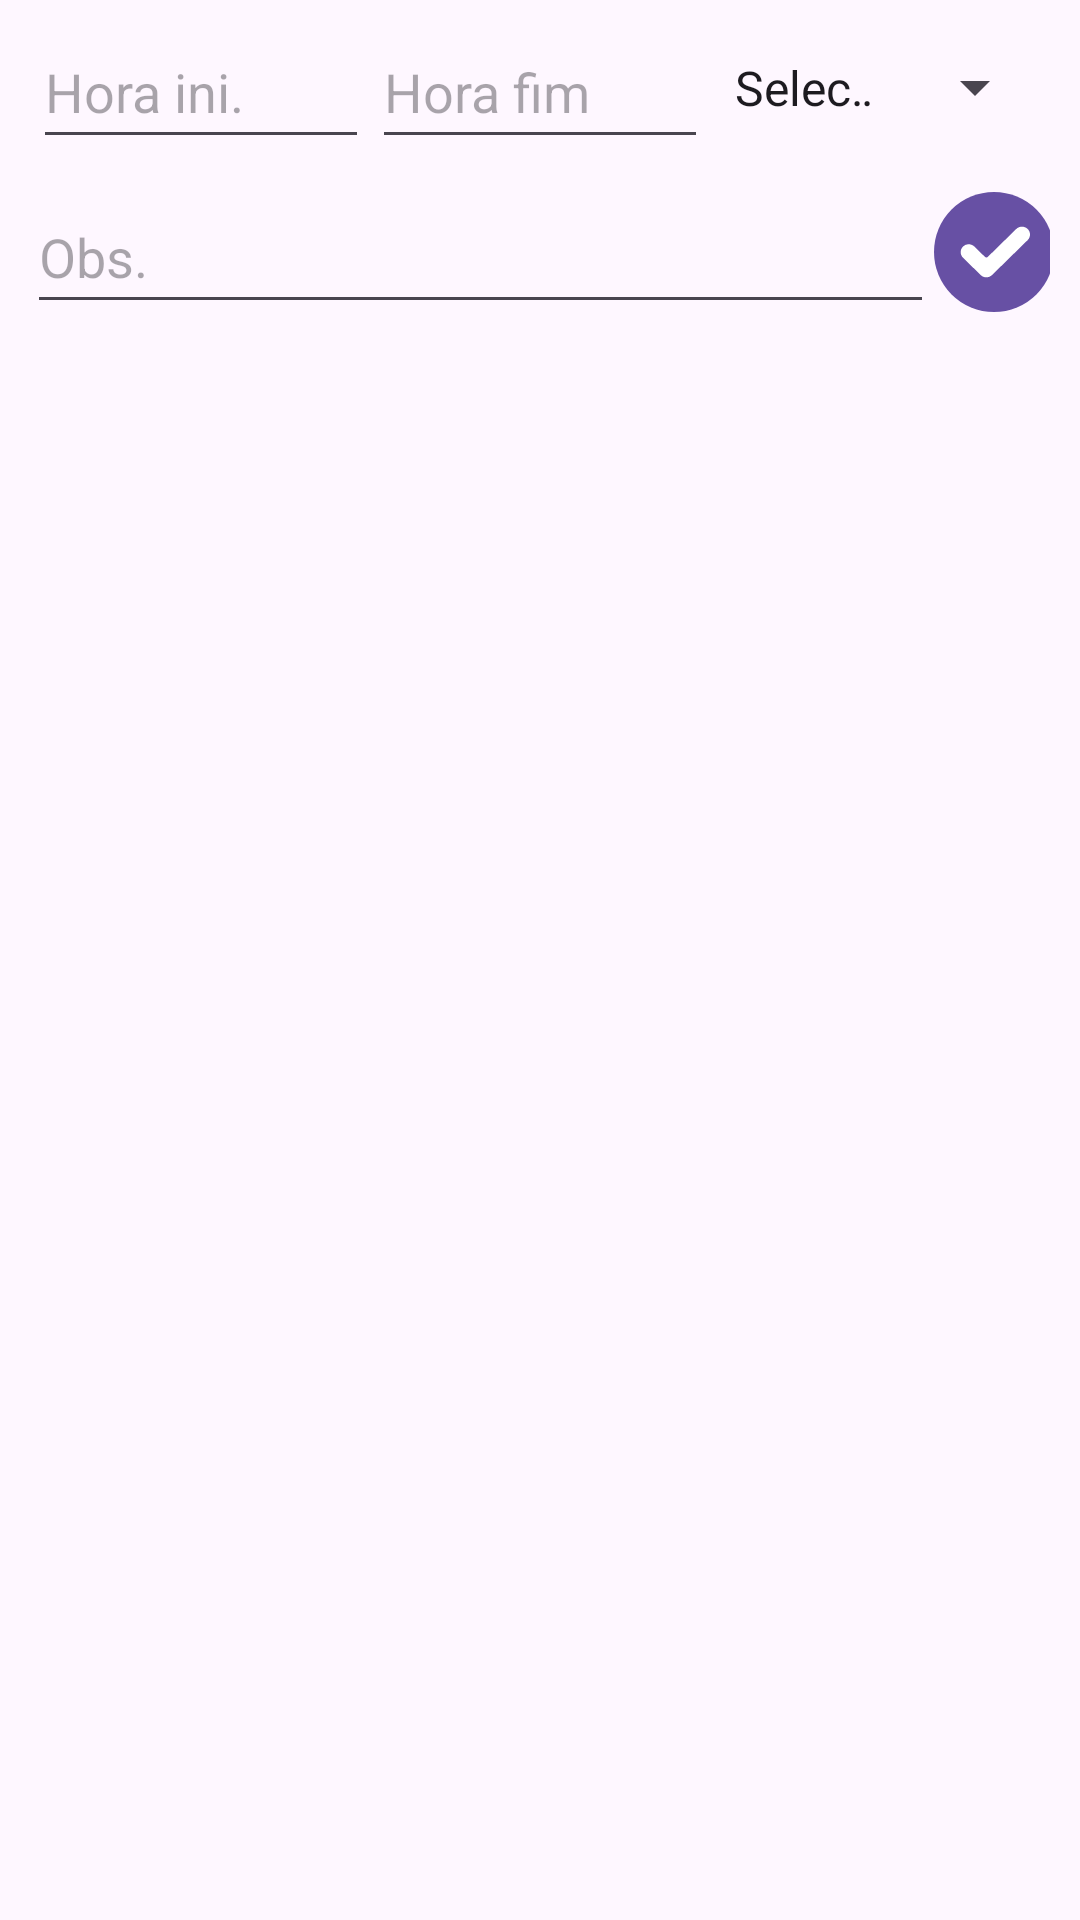

Icon bounding boxes for this 1080×1920 phone screenshot, format bbox=(x1, y1, x2, y2):
confirm: bbox=(934, 192, 1050, 312)
